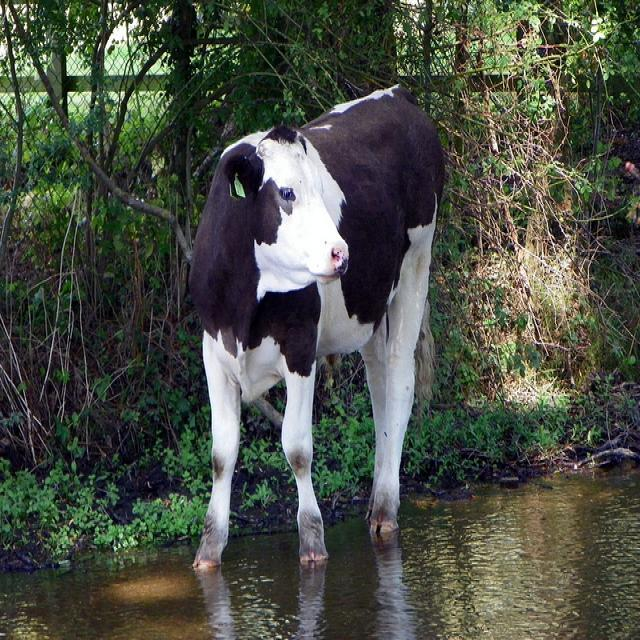cow: (186, 80, 446, 571)
